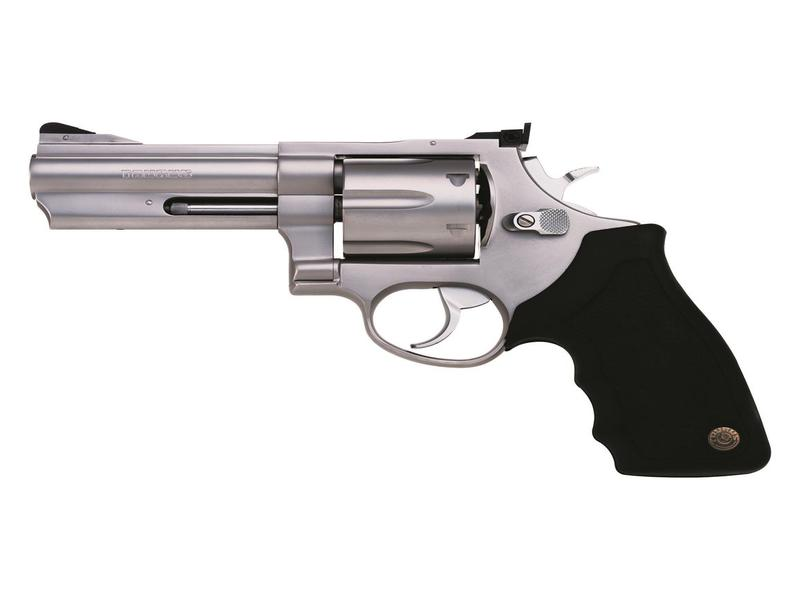Revolver: (31, 84, 780, 483)
